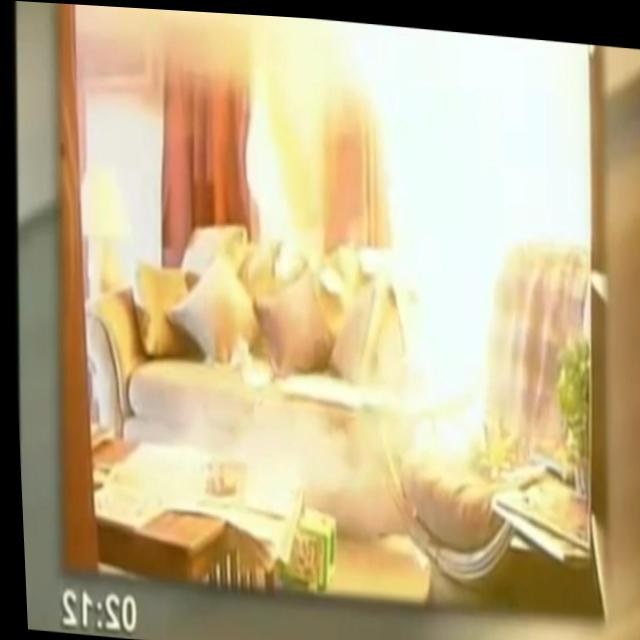fire: (382, 204, 513, 466)
